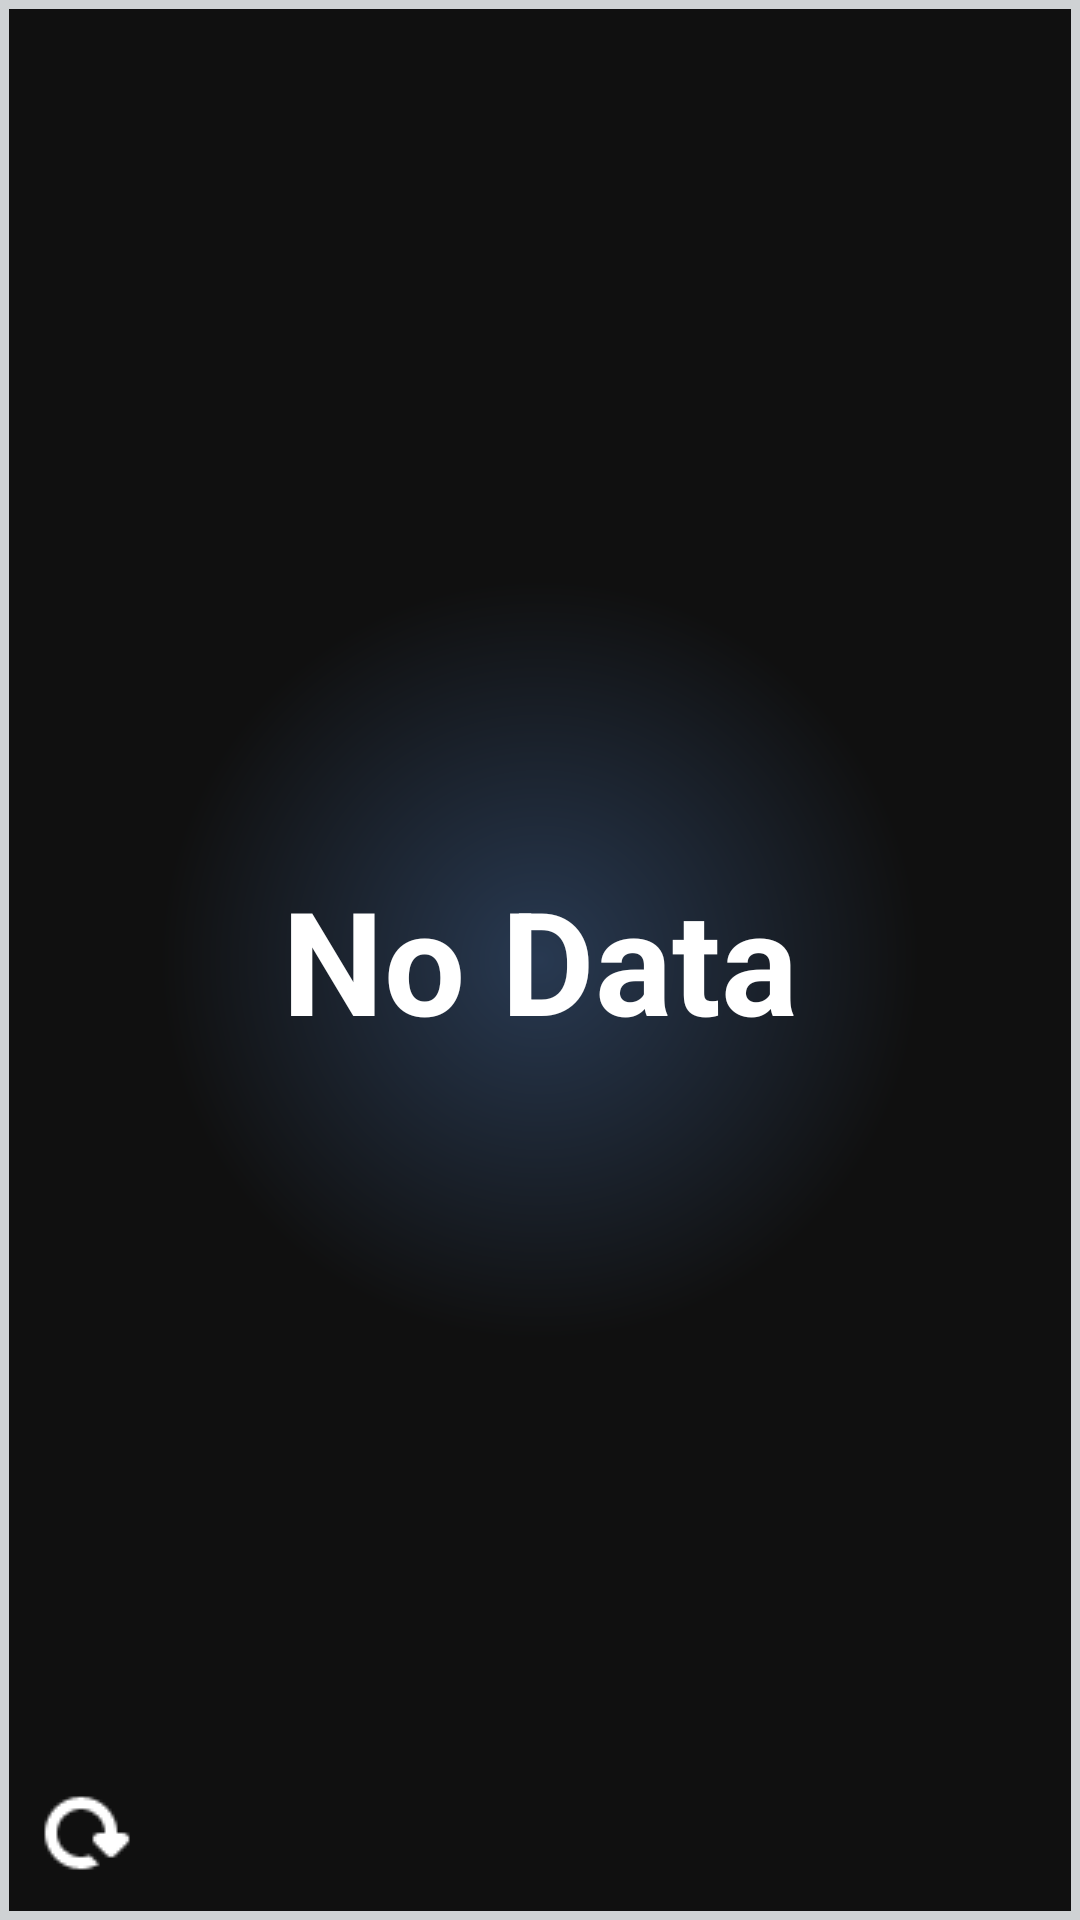

Where to tap for icons on this 1080px x 1920px app screen, as [x,y]:
refresh: [87,1833]
